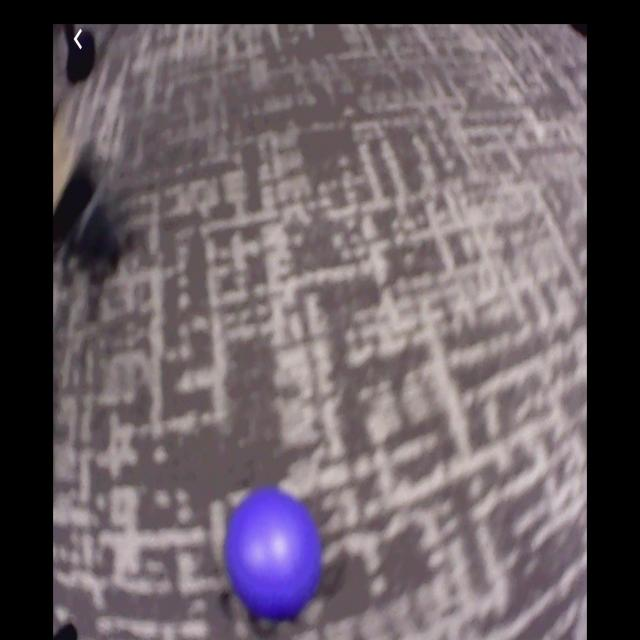ball: (228, 490, 320, 616)
